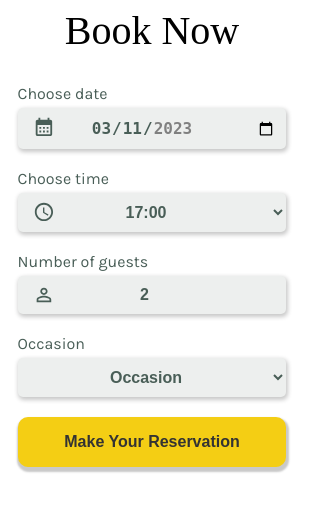
it: Validate that the correct attributes are applied › Date validation function appears 'invalid date' message
The image size is (320, 528).
Type "2023-01-01" into the date field labelled "Choose date".
click(152, 128); type("2023-01-01")  # box [18,108,286,149]
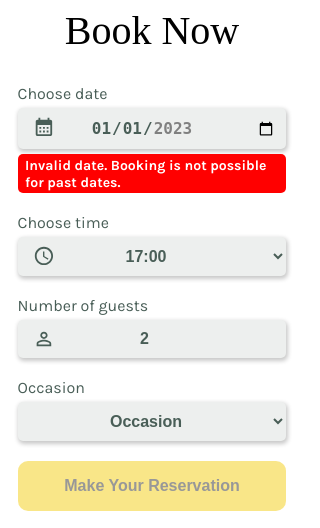
Expected: the text "Invalid date. Booking is not possible for past dates." is shown, [18,154,286,193]
